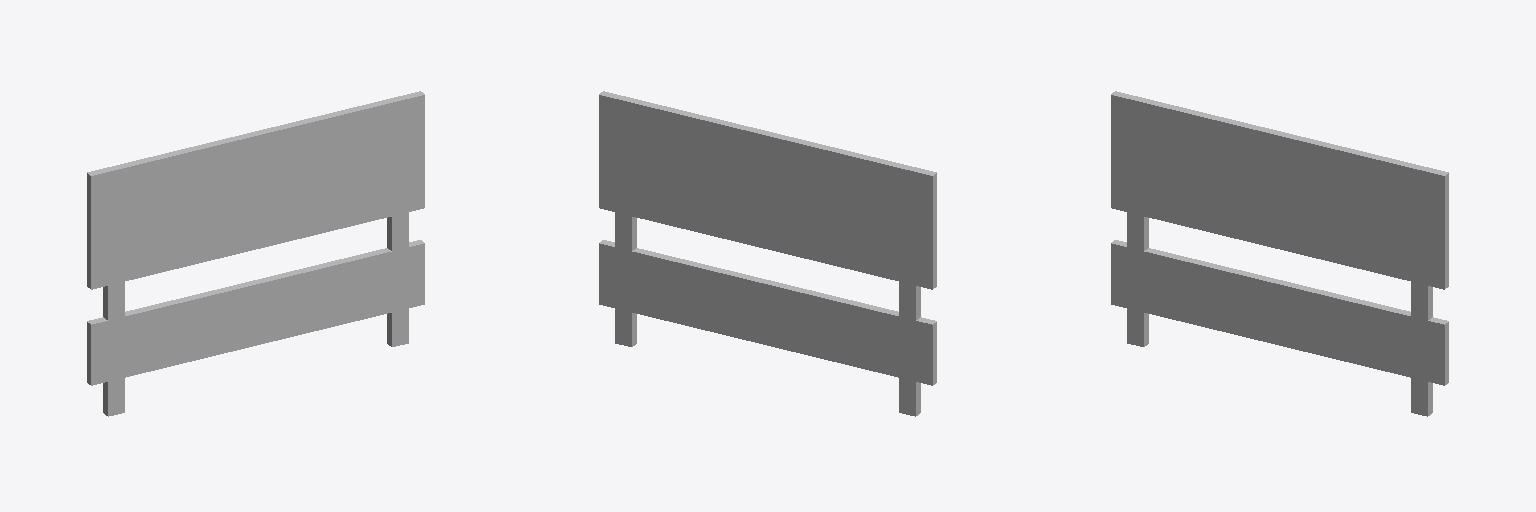
File: Bench.obj
3 renders of one model, left to right at view 1: azimuth 30°, elevation 25°; view 2: azimuth 150°, elevation 25°; view 3: azimuth 330°, elevation 25°, orthographic.
Visible parts, largest first — view 1: object 1; view 2: object 1; view 3: object 1.
Part boxes in pixels (x1,y1,x2,y2): object 1: (87,91,424,416); object 1: (599,91,936,416); object 1: (1111,91,1448,416).
Size of the model in its own units: 4 by 2.8 by 0.1.